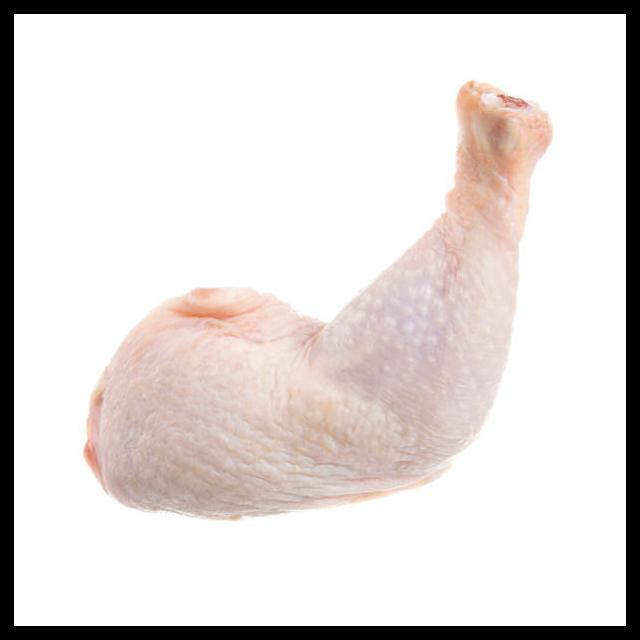chicken: (82, 80, 554, 520)
